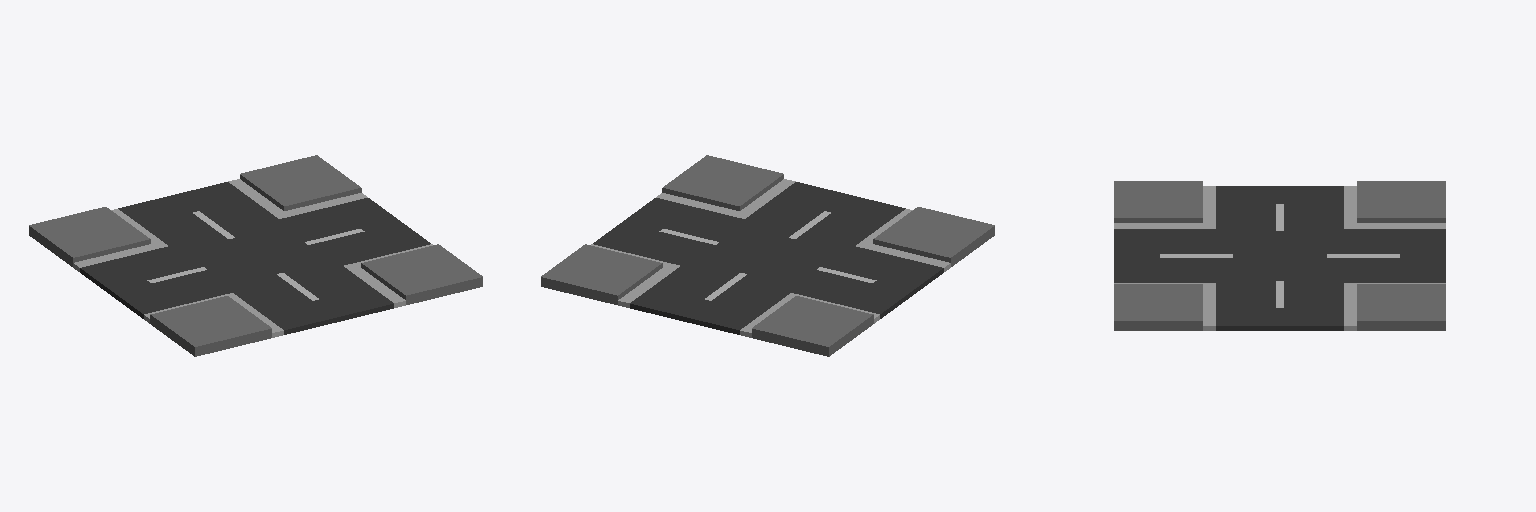
3 views of the same model, side by side, from view 1: azimuth 30°, elevation 25°; view 2: azimuth 150°, elevation 25°; view 3: azimuth 270°, elevation 25° (orthographic).
Size of the model in its own units: 123 by 4 by 123.
Materials: 1 (1 with a texture image).